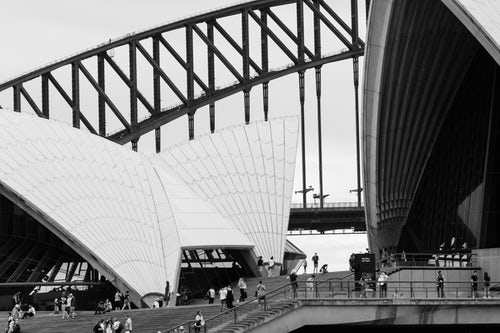opera house: (1, 86, 499, 299)
